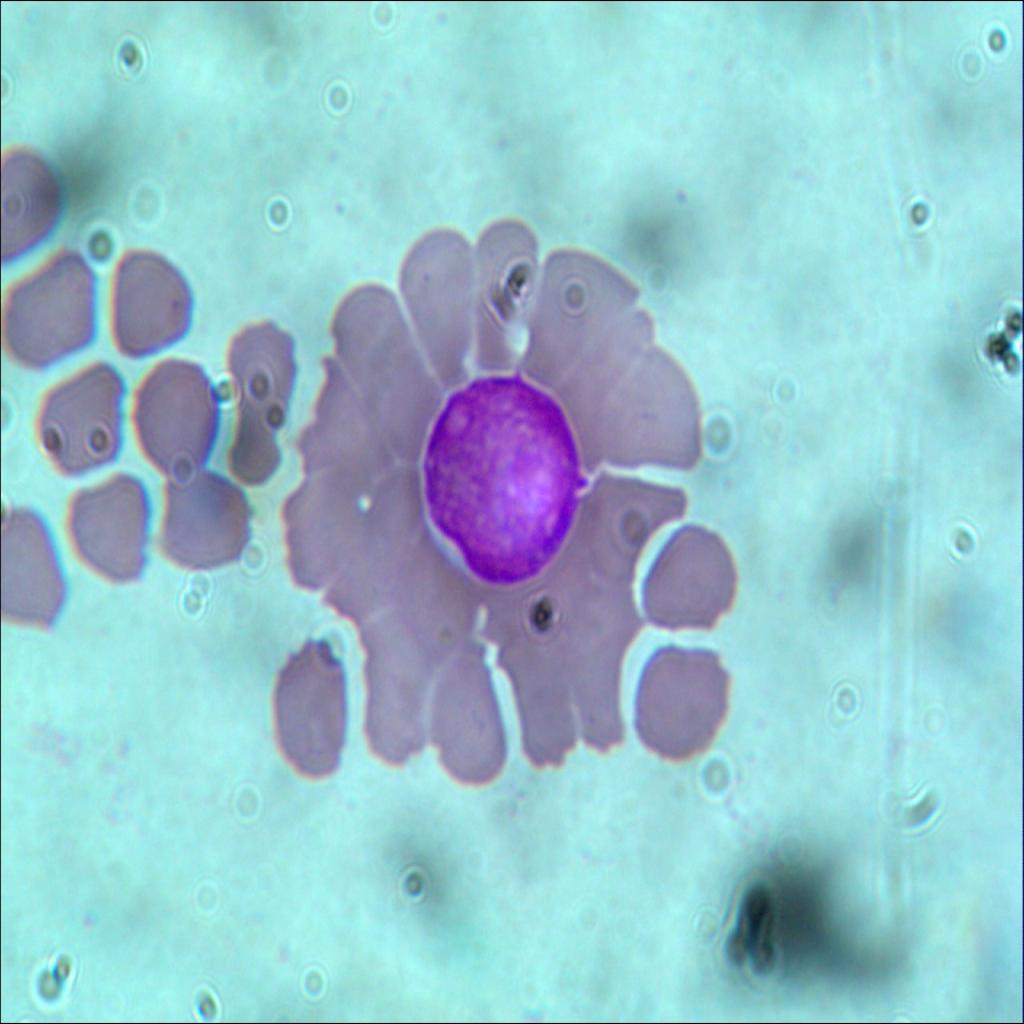Eritrosit: (546, 569, 648, 752), (529, 232, 631, 394), (624, 634, 735, 778), (210, 314, 301, 488), (578, 471, 698, 594), (595, 344, 704, 479), (394, 222, 476, 384), (489, 621, 576, 771), (271, 634, 356, 787), (329, 301, 431, 428), (155, 458, 254, 584), (423, 642, 509, 782), (121, 357, 218, 478), (634, 518, 738, 628), (0, 245, 91, 367), (64, 470, 150, 598), (104, 244, 198, 358), (468, 219, 536, 374), (362, 611, 435, 752), (0, 504, 73, 634), (269, 487, 371, 575), (0, 145, 66, 255)
Limfoblast: (418, 368, 578, 578)
